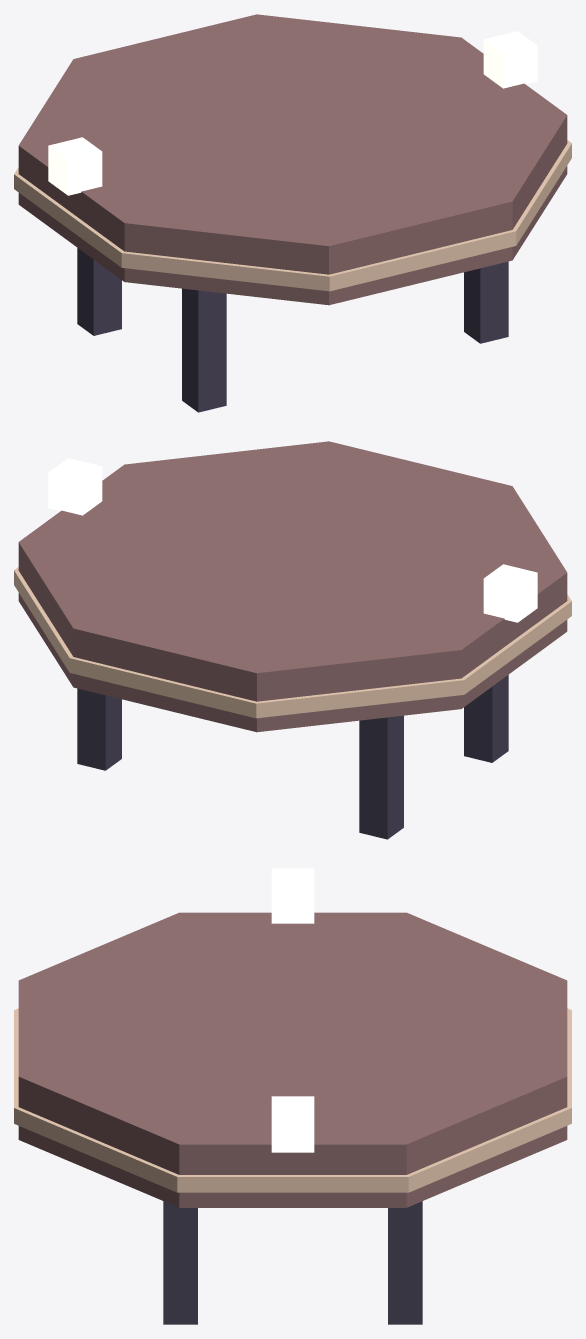
Rendered from pad.glb.
The picture shows the model from 3 angles, top to bottom: view 1: azimuth 30°, elevation 25°; view 2: azimuth 150°, elevation 25°; view 3: azimuth 270°, elevation 25°; orthographic projection. The views are drawn at different scales.
Visible parts, largest first — view 1: Deck, Stripe, StrutA, StrutB, StrutC, LampA, LampB; view 2: Deck, Stripe, StrutC, StrutD, StrutA, LampA, LampB; view 3: Deck, Stripe, StrutB, StrutD, LampB, LampA.
Part boxes in pixels (left/top/right/bottom): Deck: left=18, top=14, right=567, bottom=305; Stripe: left=14, top=140, right=571, bottom=291; StrutA: left=182, top=288, right=226, bottom=412; StrutB: left=464, top=261, right=508, bottom=343; StrutC: left=77, top=248, right=121, bottom=335; LampA: left=48, top=137, right=102, bottom=195; LampB: left=483, top=31, right=537, bottom=88; Deck: left=18, top=441, right=567, bottom=732; Stripe: left=14, top=567, right=571, bottom=718; StrutC: left=359, top=715, right=403, bottom=839; StrutD: left=77, top=688, right=121, bottom=770; StrutA: left=464, top=675, right=508, bottom=762; LampA: left=483, top=564, right=537, bottom=622; LampB: left=48, top=458, right=102, bottom=515; Deck: left=18, top=912, right=567, bottom=1207; Stripe: left=14, top=1008, right=571, bottom=1192; StrutB: left=163, top=1201, right=197, bottom=1324; StrutD: left=388, top=1201, right=422, bottom=1324; LampB: left=271, top=1096, right=314, bottom=1152; LampA: left=271, top=868, right=314, bottom=923.
Bounding box in the file's own units: 2.33 × 1.11 × 2.24.
